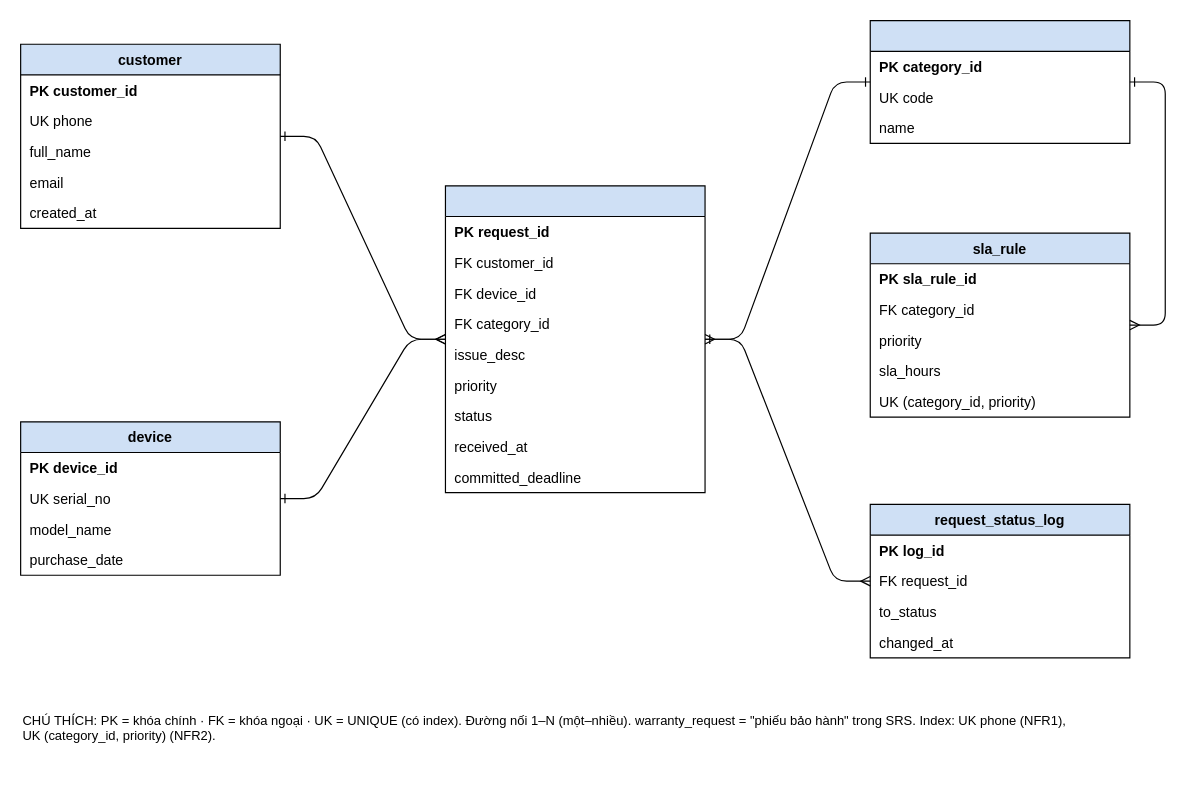
The diagram is 1197 pixels wide and 785 high, and some of its shapes have lost their labels. Here are the shapes that lost their labels. From the top down, the box of each, then its label:
(869, 19, 1130, 143): issue_category
(444, 185, 705, 493): warranty_request
